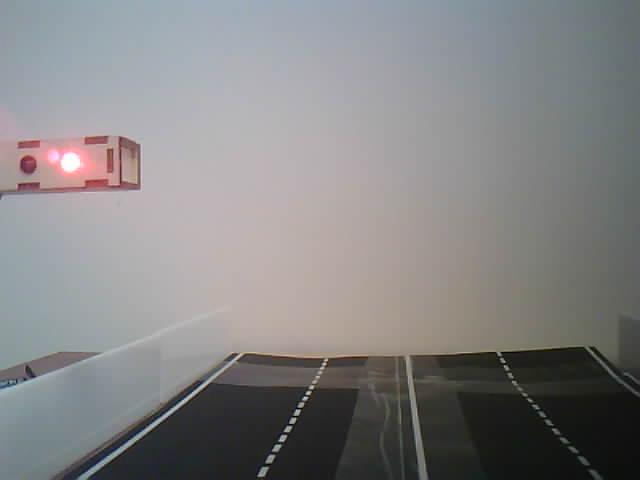red: (0, 130, 153, 209)
